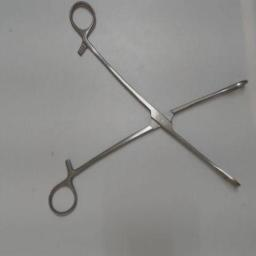Sponge Forceps: (46, 0, 252, 220)
